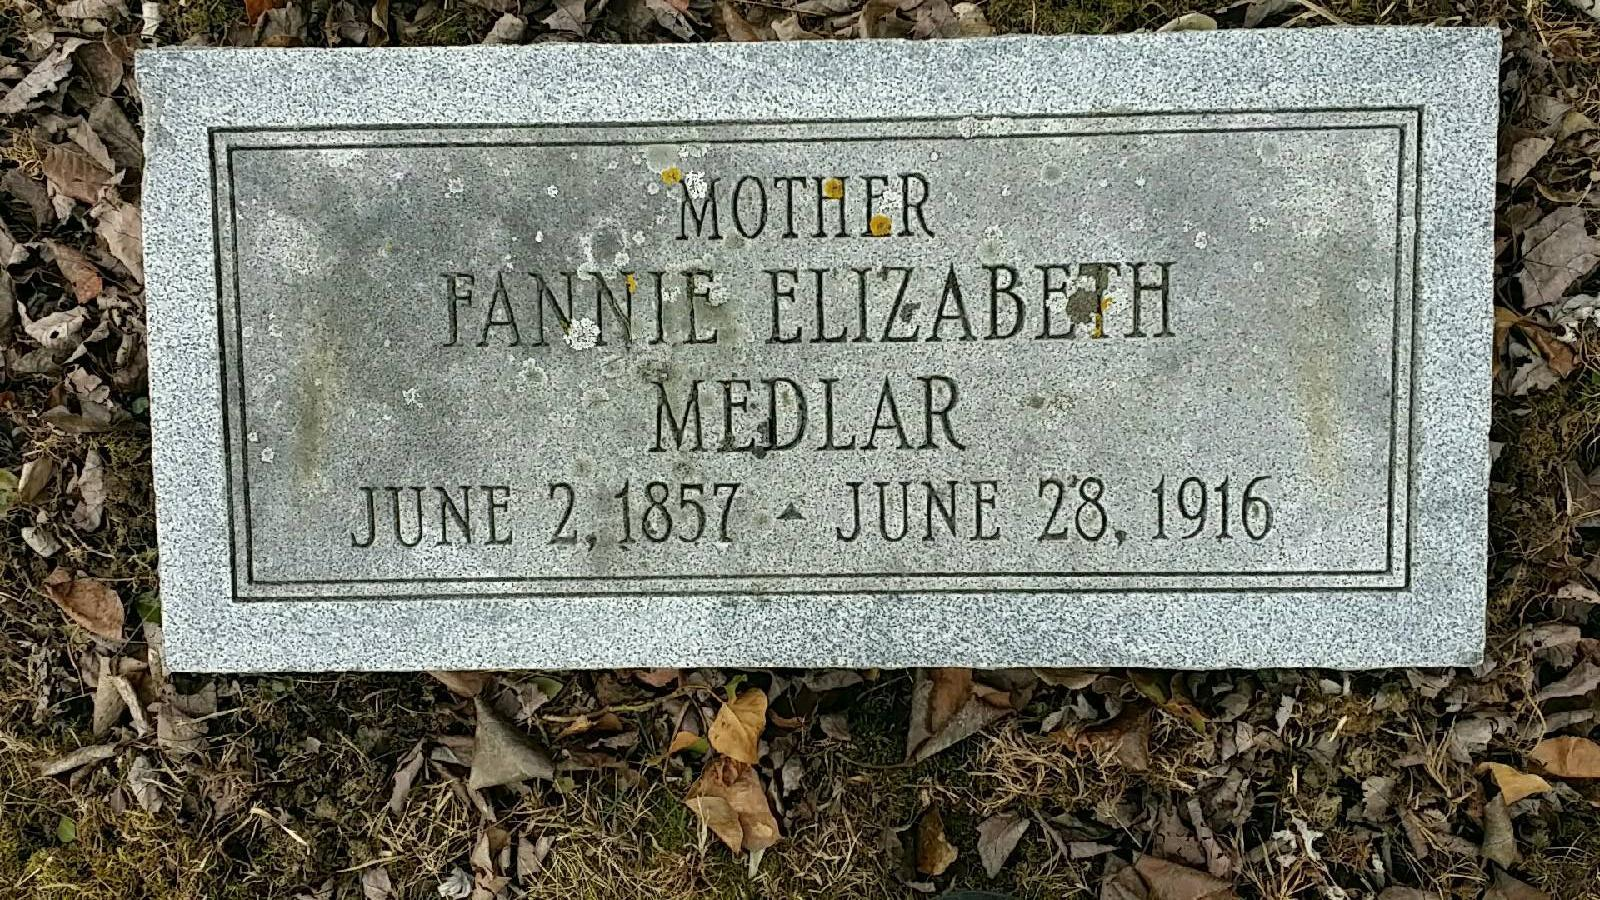flat: (109, 12, 1535, 695)
